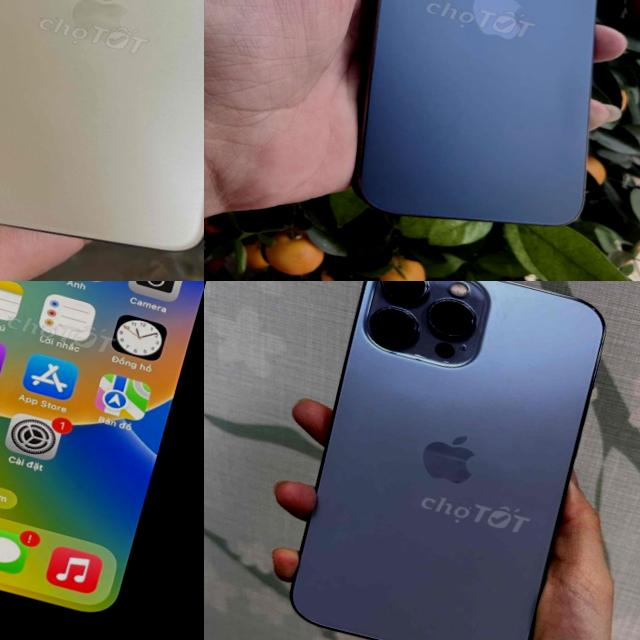gen_11: (0, 0, 204, 281)
gen_12_13: (253, 281, 631, 640)
gen_15: (272, 0, 640, 281)
gen_x_xs: (0, 281, 204, 640)
